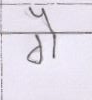ai_matra: (28, 6, 59, 31)
